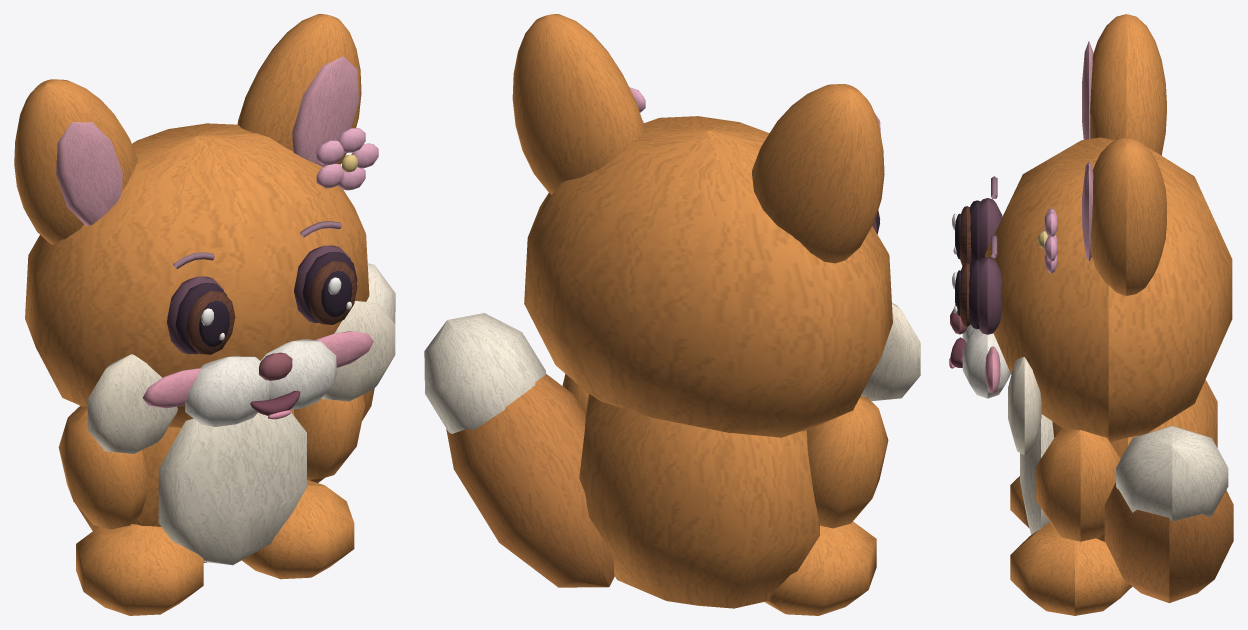
The model's file is body-lod1.glb.
3 views of the same model, side by side, from view 1: azimuth 30°, elevation 25°; view 2: azimuth 150°, elevation 25°; view 3: azimuth 270°, elevation 25° (orthographic). The views are drawn at different scales.
Visible parts, largest first — view 1: Critter_fox; view 2: Critter_fox; view 3: Critter_fox.
Part boxes in pixels (x1,y1,x2,y2): Critter_fox: (14, 14, 395, 615); Critter_fox: (424, 14, 920, 615); Critter_fox: (949, 14, 1233, 615).
Size of the model in its own units: 1.47 by 1.85 by 0.9646.
1 material, 1 textured.
